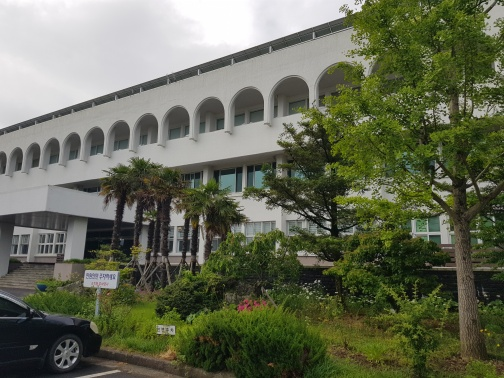Main Building of University: (6, 4, 311, 253), (24, 69, 309, 170)
